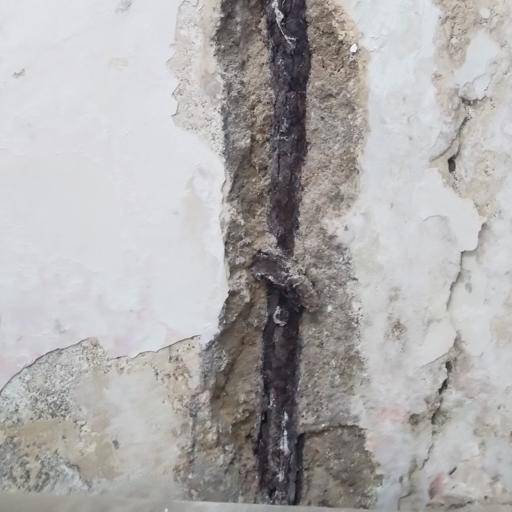spalling: (191, 4, 370, 512)
